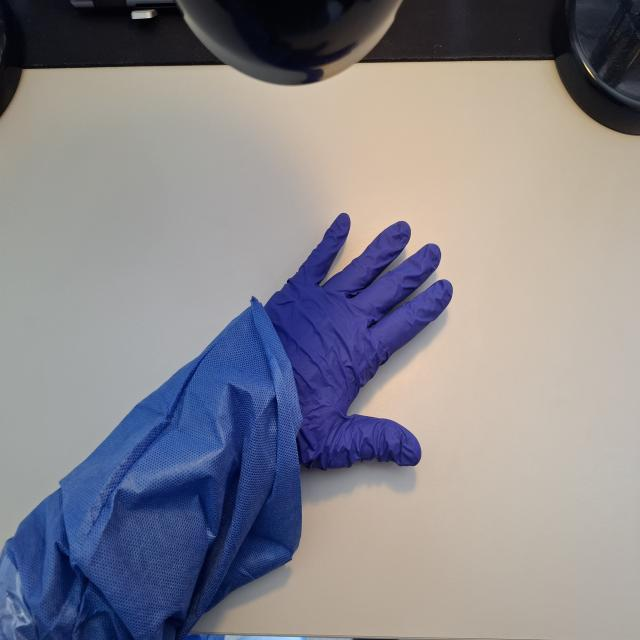glove_on: (234, 210, 455, 474)
